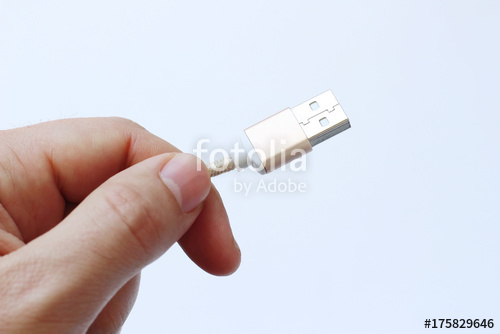finger: (1, 124, 252, 280)
